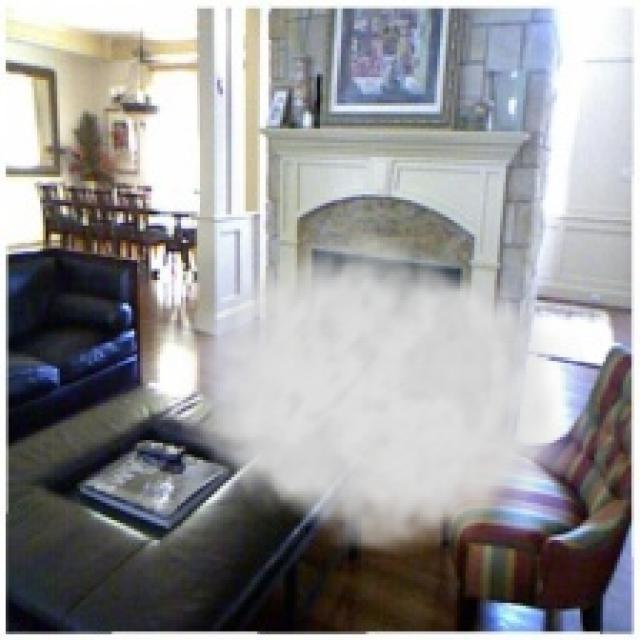Smoke: (177, 217, 583, 563)
